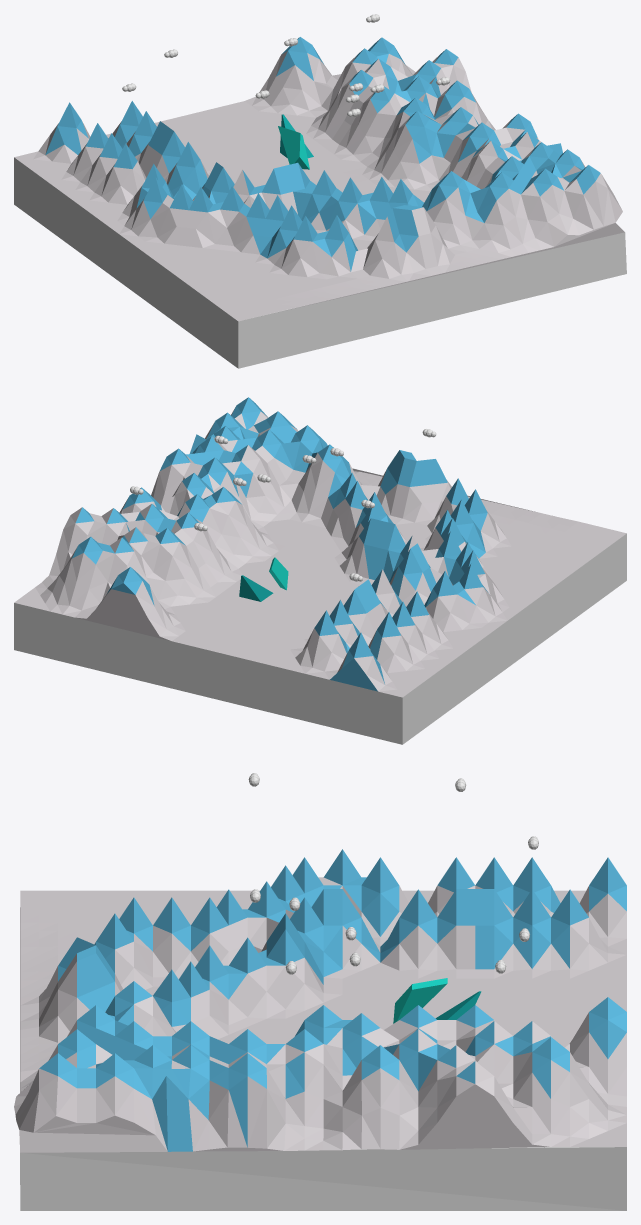
Rendered from uploads_files_881425_low+poly+Ice+land.fbx.
3 views of the same model, one above another, from view 1: azimuth 30°, elevation 25°; view 2: azimuth 150°, elevation 25°; view 3: azimuth 270°, elevation 25° (orthographic). The views are drawn at different scales.
Visible parts, largest first — view 1: Plane, Cube; view 2: Plane, Cube.001; view 3: Plane, Cube.
Boxes of the visible parts, left/top/right/bottom form: Plane: left=14, top=37, right=626, bottom=368; Cube: left=278, top=126, right=309, bottom=169; Plane: left=14, top=397, right=626, bottom=744; Cube.001: left=239, top=575, right=273, bottom=601; Plane: left=14, top=849, right=626, bottom=1210; Cube: left=393, top=978, right=447, bottom=1023.
Size of the model in its own units: 1606 by 738 by 1618.
